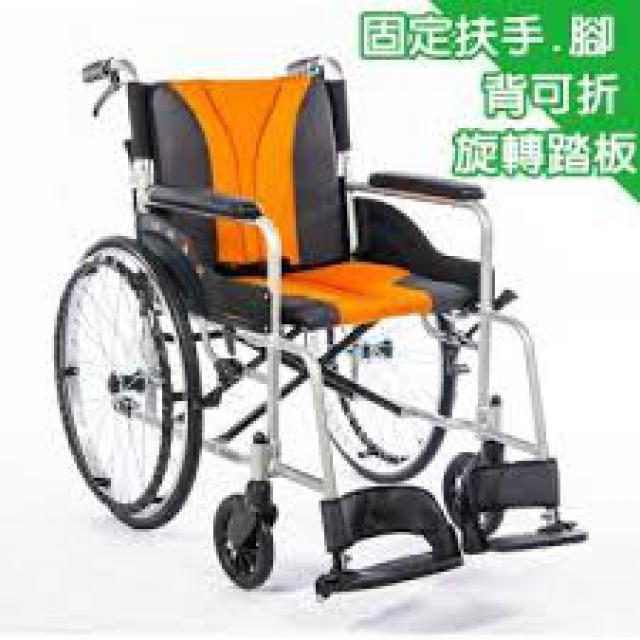wheelchairs: (76, 65, 570, 599)
